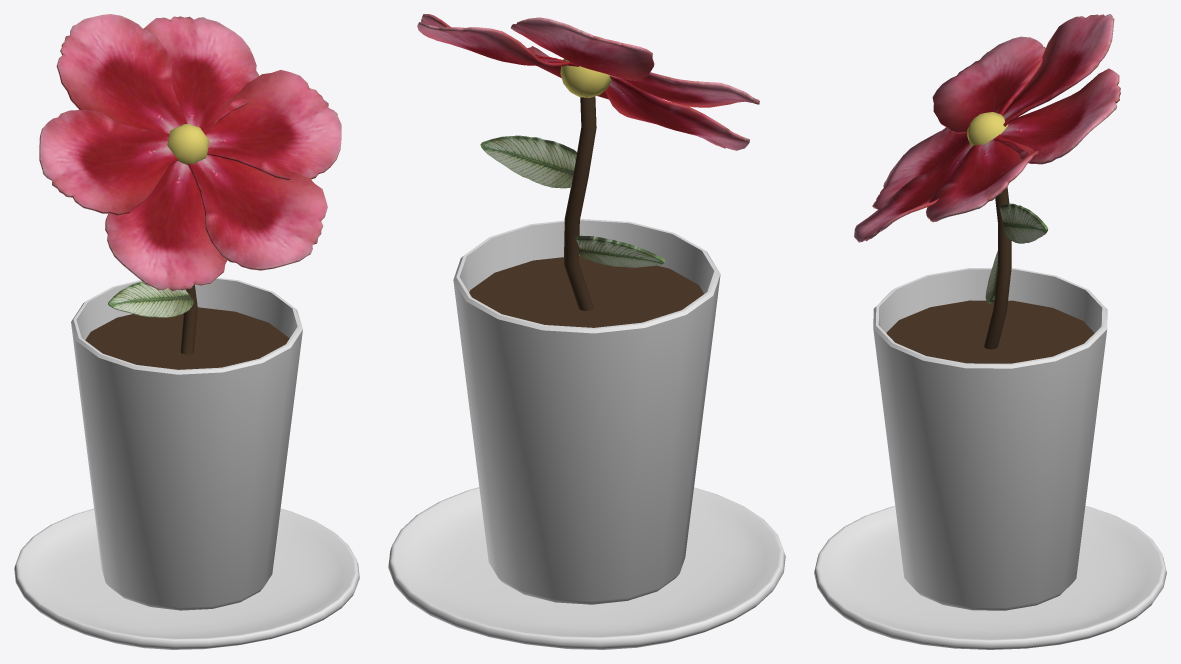
The model's file is Flower.fbx.
The picture shows the model from 3 angles, left to right: view 1: azimuth 30°, elevation 25°; view 2: azimuth 150°, elevation 25°; view 3: azimuth 270°, elevation 25°; orthographic projection. The views are drawn at different scales.
Parts seen in each view (by area): view 1: Flower, Pot, Plate; view 2: Pot, Plate, Flower; view 3: Pot, Flower, Plate.
Part boxes in pixels (<box>): Flower: <box>39,14,341,354</box>; Pot: <box>71,277,302,610</box>; Plate: <box>14,508,359,649</box>; Pot: <box>453,219,720,604</box>; Plate: <box>388,487,785,649</box>; Flower: <box>417,14,759,310</box>; Pot: <box>873,268,1107,610</box>; Flower: <box>854,14,1120,349</box>; Plate: <box>814,506,1166,649</box>.
Size of the model in its own units: 12.3 by 12.3 by 21.09.
Materials: 6 (2 with a texture image).
